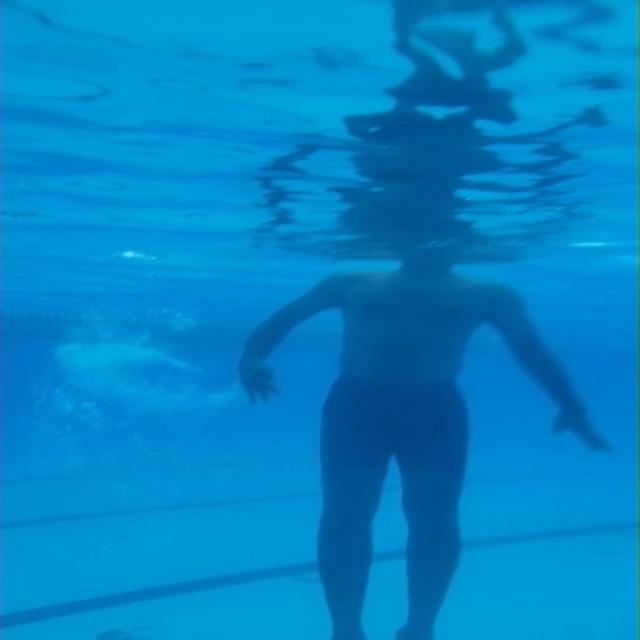Drowning: (238, 258, 611, 640)
